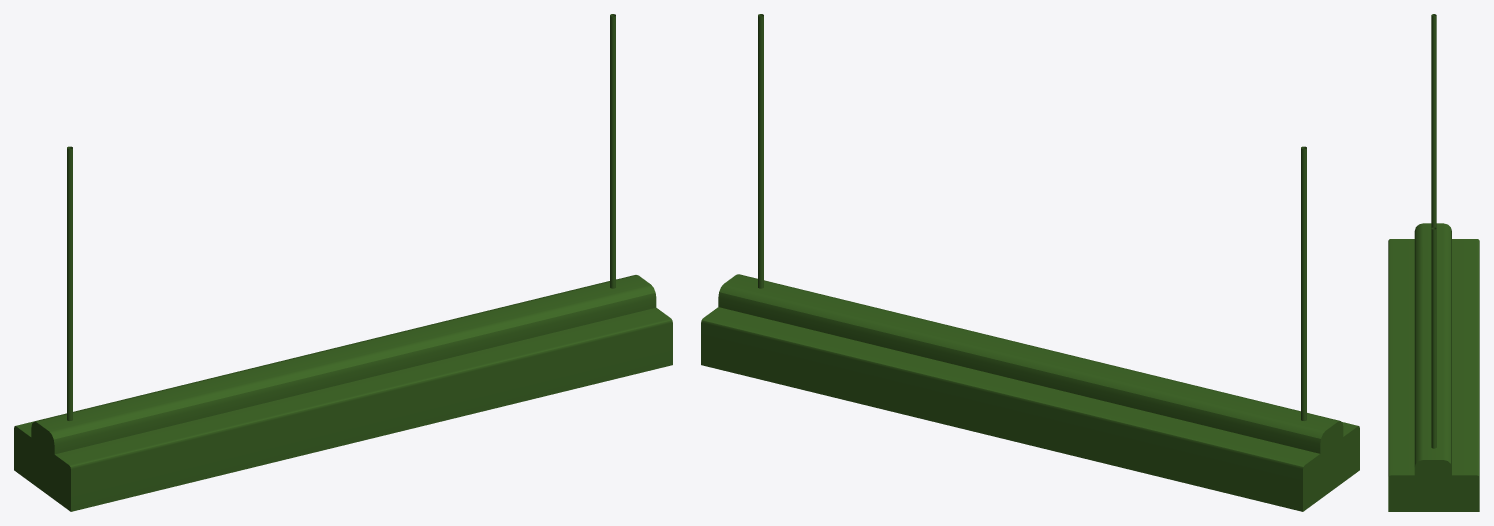
File: Lampara_Sana.fbx
3 views of the same model, side by side, from view 1: azimuth 30°, elevation 25°; view 2: azimuth 150°, elevation 25°; view 3: azimuth 270°, elevation 25° (orthographic). The views are drawn at different scales.
Visible parts, largest first — view 1: polySurface126; view 2: polySurface126; view 3: polySurface126.
Boxes of the visible parts, bbox=[...] form: polySurface126: bbox=[14, 14, 672, 511]; polySurface126: bbox=[701, 14, 1359, 511]; polySurface126: bbox=[1388, 14, 1479, 511].
Size of the model in its own units: 12.23 by 6.54 by 2.
